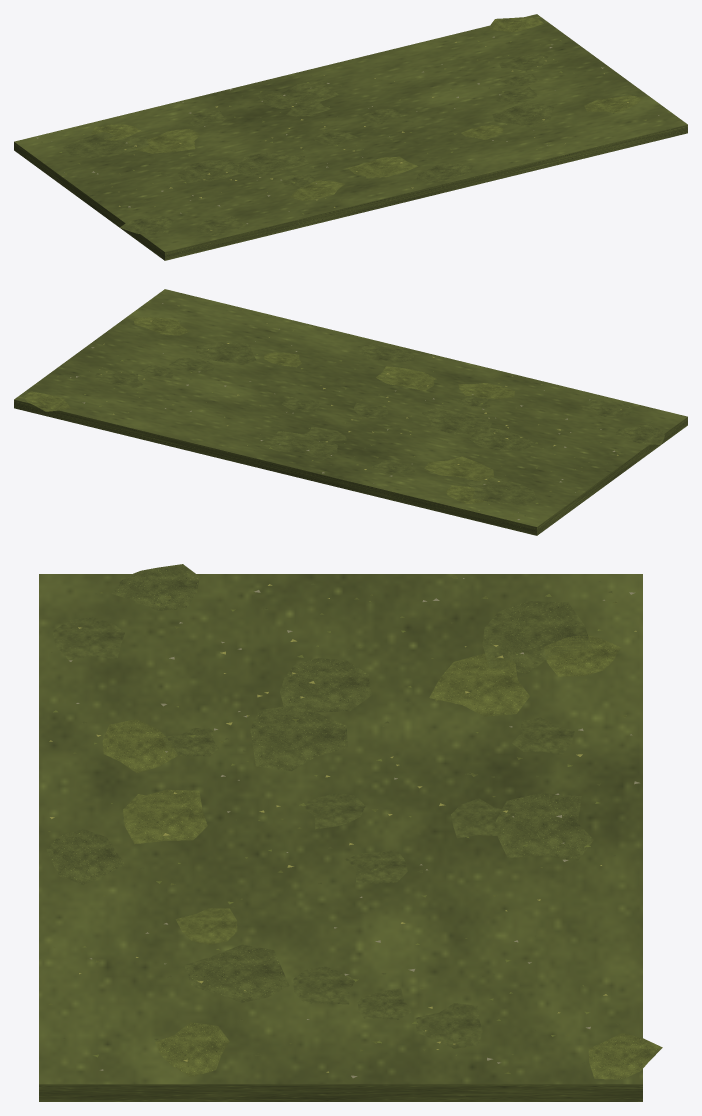
Rendered from ground-patch-0.fbx.
The picture shows the model from 3 angles, top to bottom: view 1: azimuth 30°, elevation 25°; view 2: azimuth 150°, elevation 25°; view 3: azimuth 270°, elevation 25°; orthographic projection. The views are drawn at different scales.
Visible parts, largest first — view 1: ground-patch-0__Geometry; view 2: ground-patch-0__Geometry; view 3: ground-patch-0__Geometry.
Boxes of the visible parts, <box> form: ground-patch-0__Geometry: <box>14,14,687,260</box>; ground-patch-0__Geometry: <box>14,289,687,535</box>; ground-patch-0__Geometry: <box>39,564,662,1101</box>.
Bounding box in the file's own units: 10.18 × 0.171 × 5.17.
Materials: 1 (1 with a texture image).
